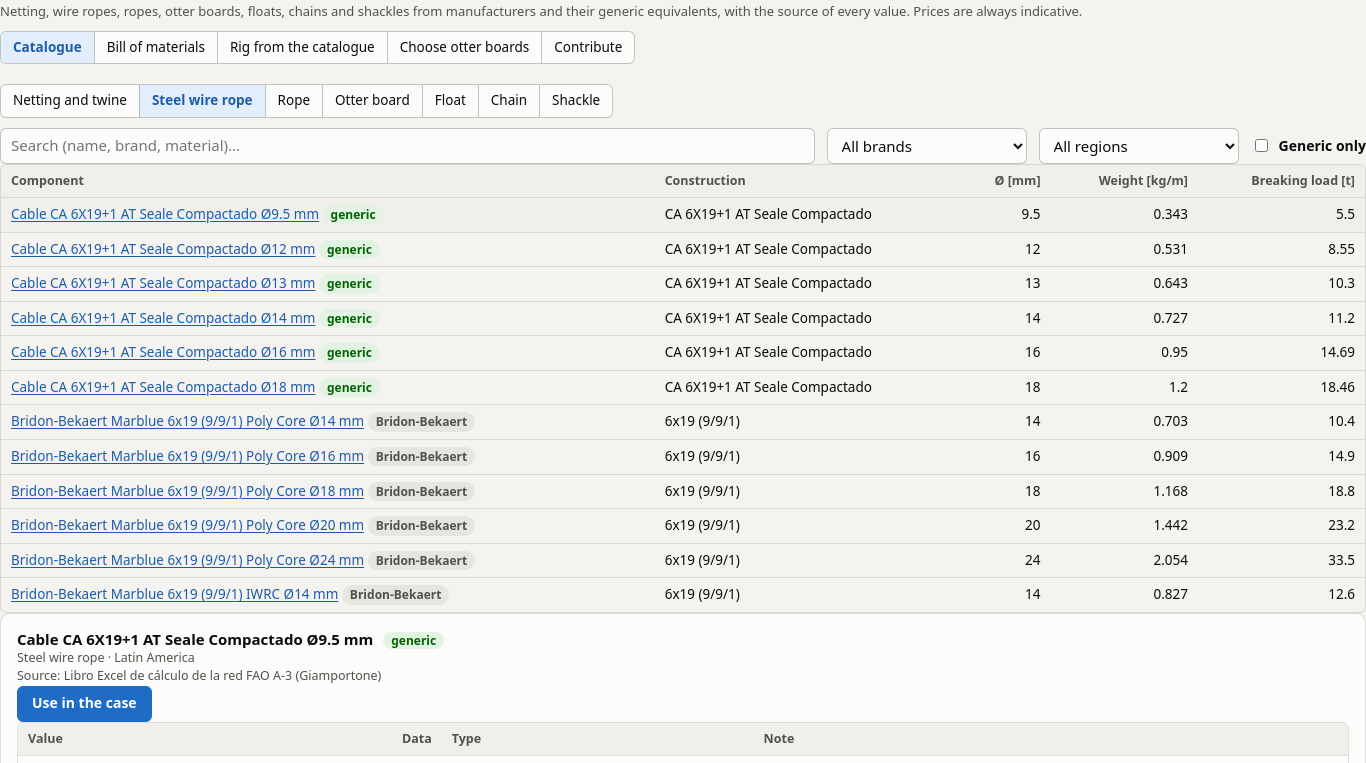
catalogue and components in English › component catalogue, bill of materials and contributions in English
This screenshot has width=1366, height=763.
Expected: the column heading "Weight [kg/m]" is shown, [1050,165,1198,198]
Expected: the button "Use in the case" is shown, [17,686,152,722]
Click the button "Bill of materials": [155, 48] box [94,32,217,63]
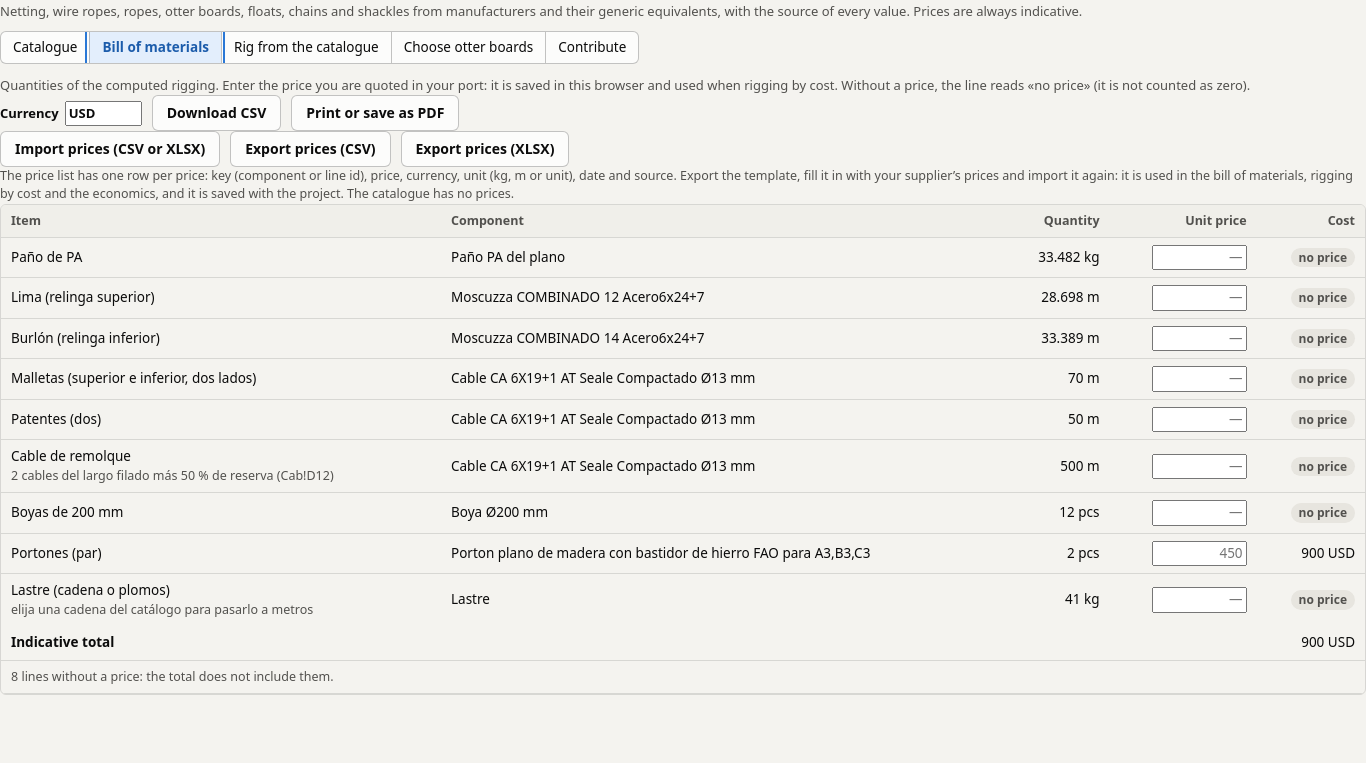
Result: the cell with test id "bom-total-USD" shows "900" at [1301,633,1324,651]
Result: the text "no price" in the row of "Paño de PA" is shown at [1299,249,1347,266]
Result: the row "Indicative total 900 USD" is shown at [1,626,1365,660]
Click the button "Contribute": [592, 48] box [545,32,638,63]
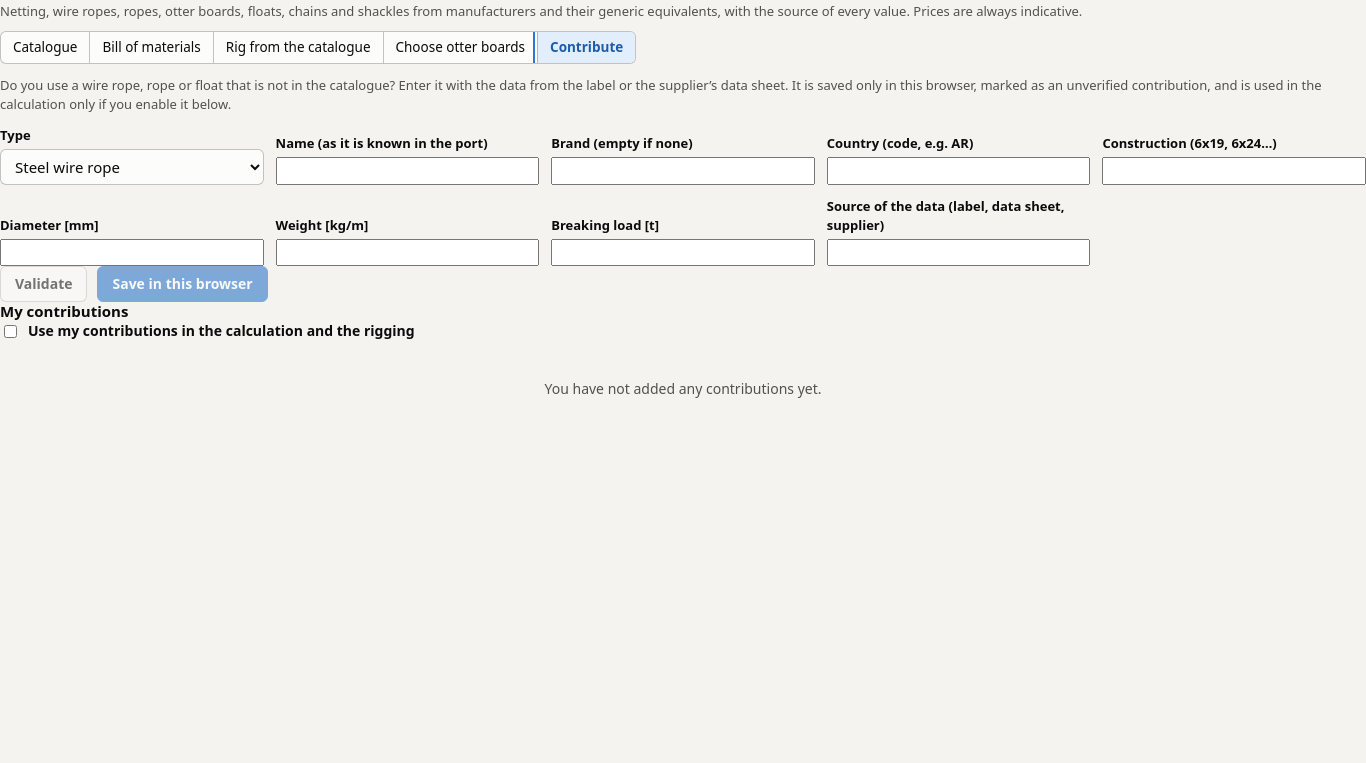
Result: the field labelled "Diameter [mm]" is shown at [0,239,264,266]
Result: the button "Validate" is shown at [0,266,88,302]
